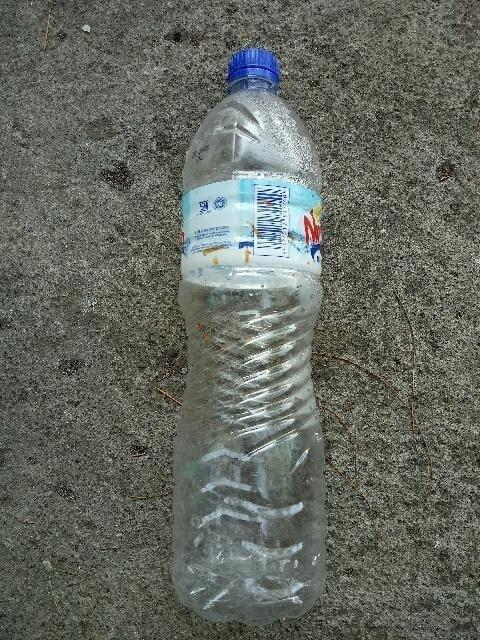bottle-plastic: (170, 47, 325, 620)
